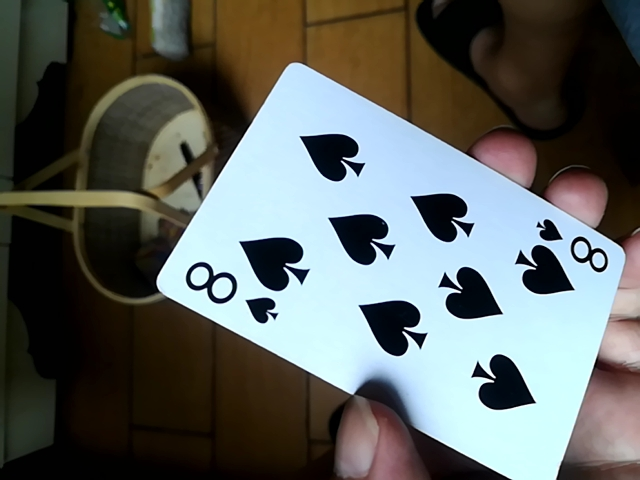ht 8: (143, 63, 616, 480)
